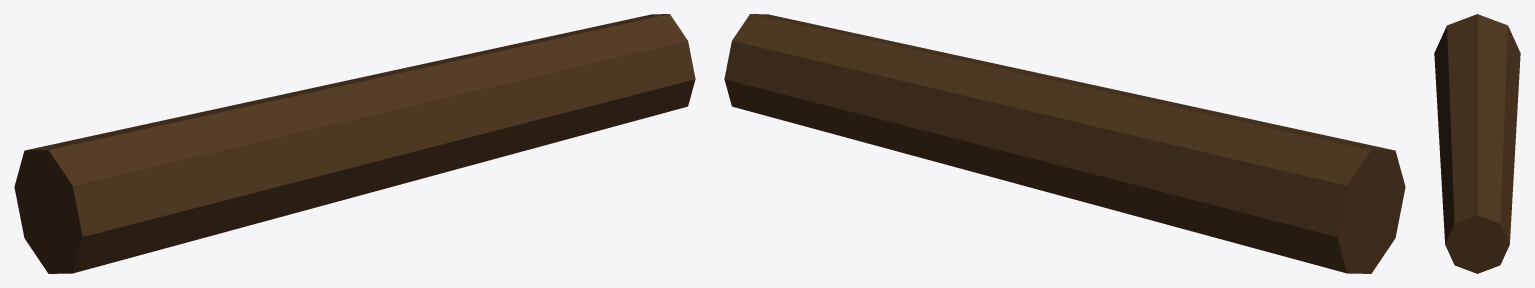
The model's file is felled_trunk.glb.
3 views of the same model, side by side, from view 1: azimuth 30°, elevation 25°; view 2: azimuth 150°, elevation 25°; view 3: azimuth 270°, elevation 25° (orthographic). The views are drawn at different scales.
Visible parts, largest first — view 1: felled_trunk; view 2: felled_trunk; view 3: felled_trunk.
Boxes of the visible parts, x1,y1,x2,y2 form: felled_trunk: (14, 14, 695, 273); felled_trunk: (724, 14, 1405, 273); felled_trunk: (1434, 14, 1520, 273).
Size of the model in its own units: 0.42 by 0.08 by 0.08.
